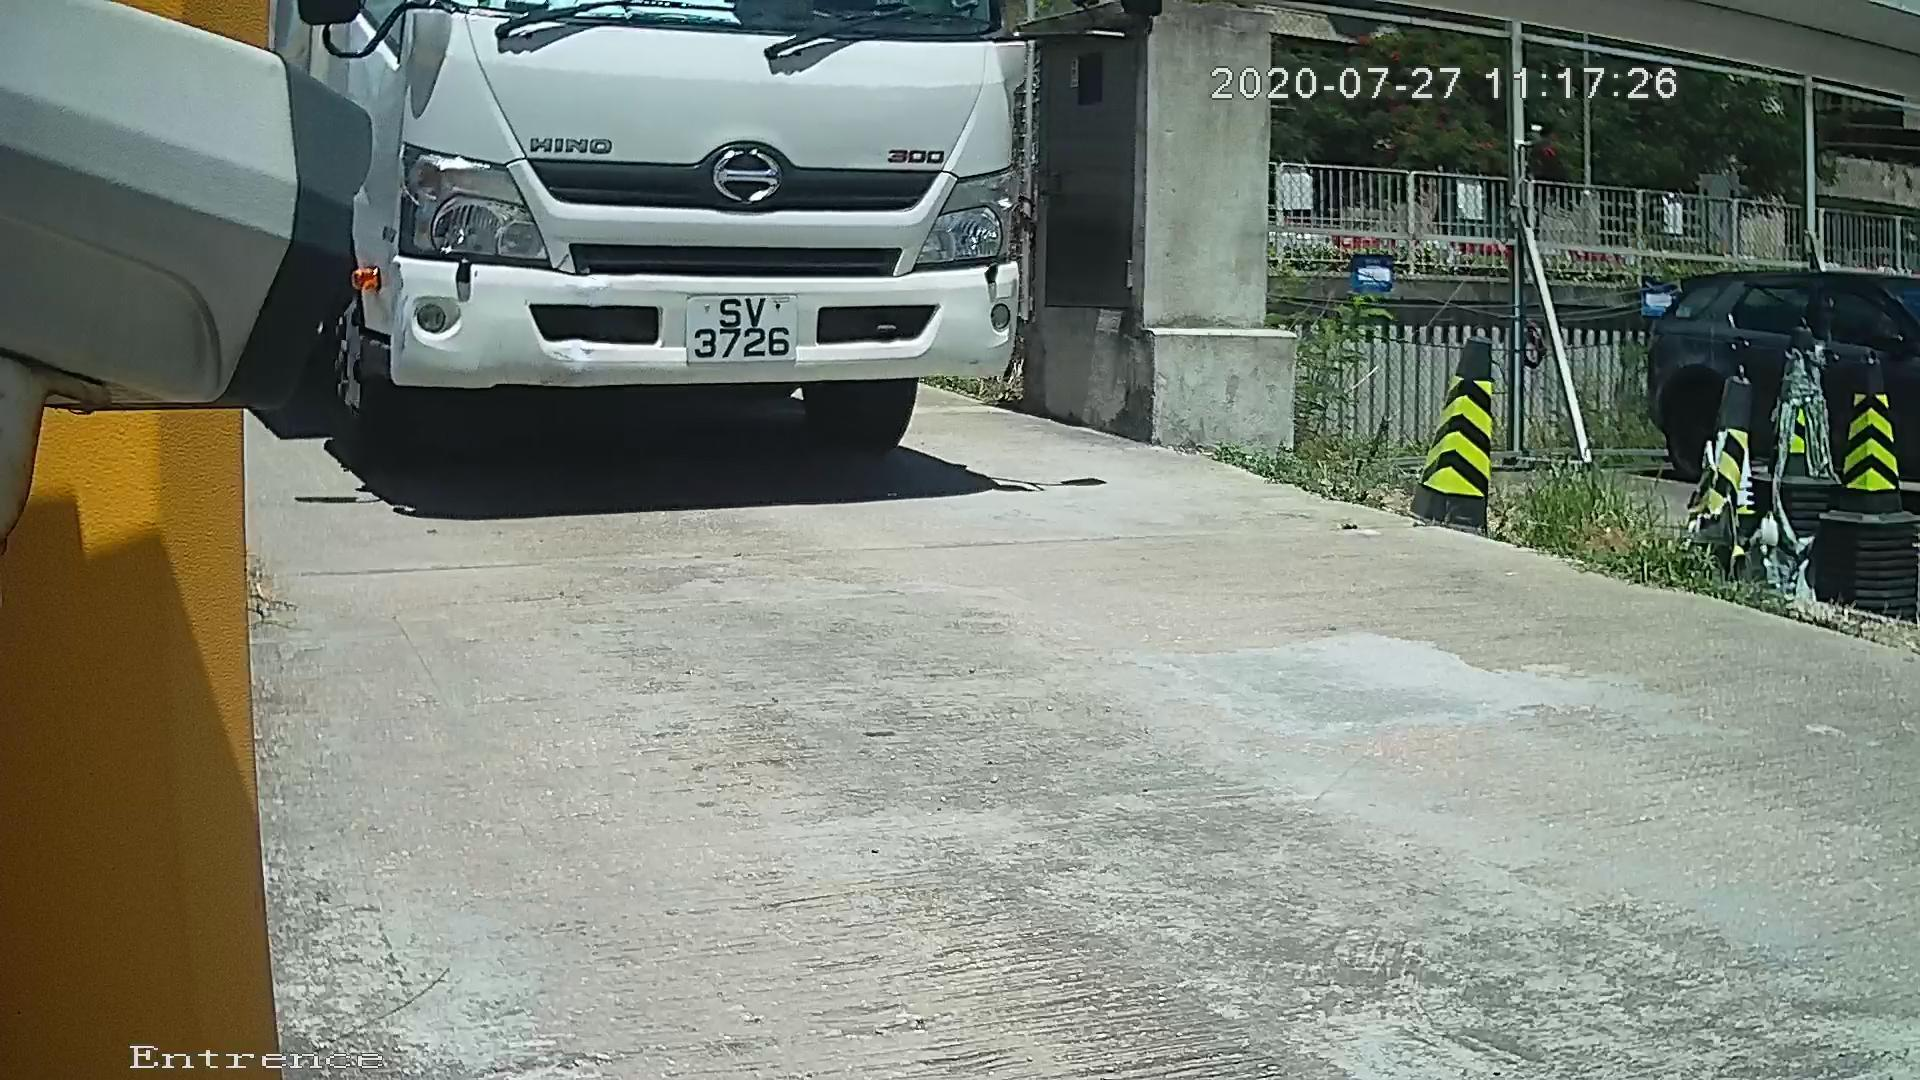Car: (155, 10, 1072, 497)
License Plate: (652, 266, 832, 381)
